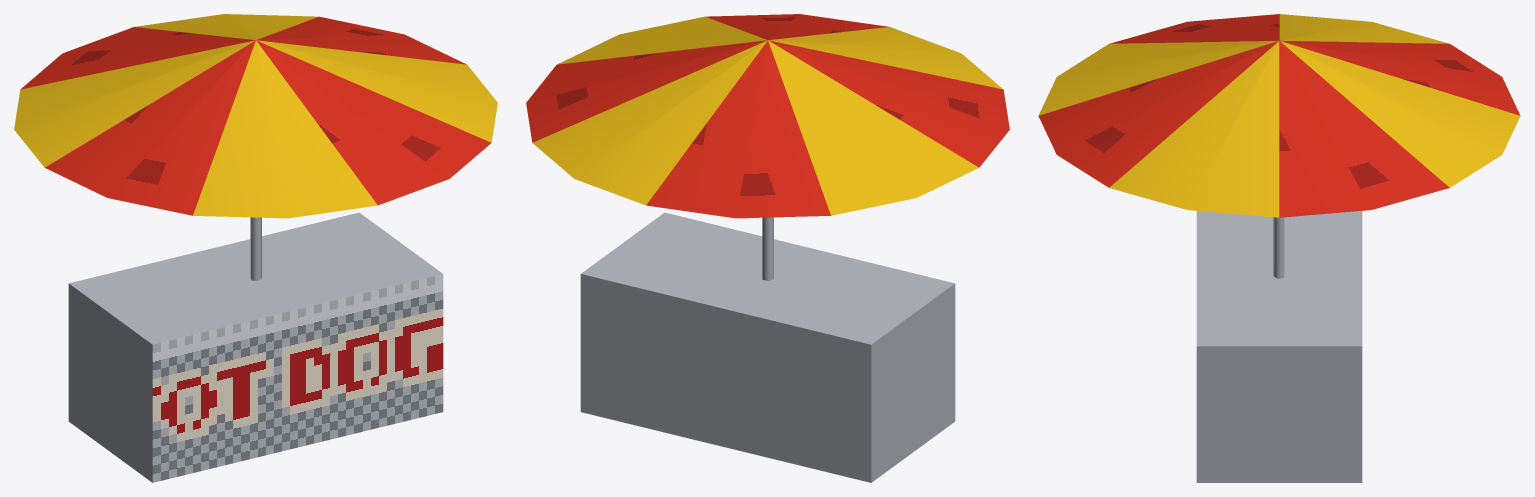
The model's file is Detail_0_10.glb.
The picture shows the model from 3 angles, left to right: view 1: azimuth 30°, elevation 25°; view 2: azimuth 150°, elevation 25°; view 3: azimuth 270°, elevation 25°; orthographic projection.
Visible parts, largest first — view 1: Detail_0_10; view 2: Detail_0_10; view 3: Detail_0_10.
Part boxes in pixels (x1,y1,x2,y2): Detail_0_10: [14, 14, 497, 482]; Detail_0_10: [526, 14, 1009, 482]; Detail_0_10: [1038, 14, 1520, 482].
Bounding box in the file's own units: 3.2 × 2.73 × 3.2.
Materials: 3 (2 with a texture image).
